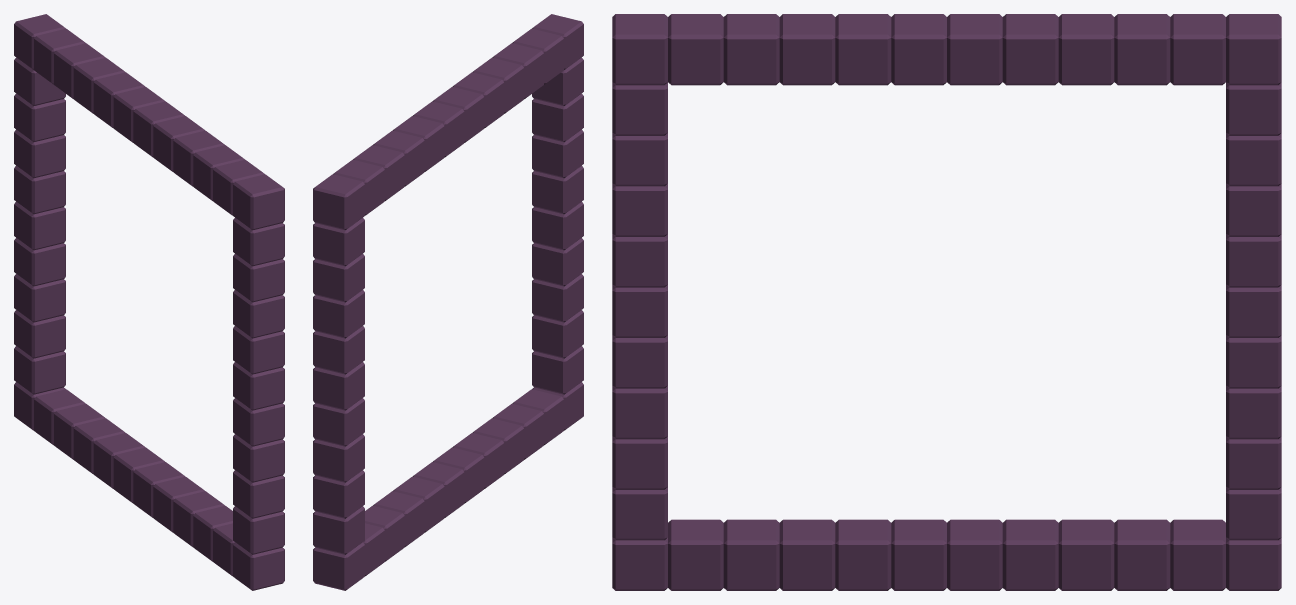
File: Frame01.fbx
The picture shows the model from 3 angles, left to right: view 1: azimuth 30°, elevation 25°; view 2: azimuth 150°, elevation 25°; view 3: azimuth 270°, elevation 25°; orthographic projection. The views are drawn at different scales.
Visible parts, largest first — view 1: Cube; view 2: Cube; view 3: Cube.
Boxes of the visible parts, x1=… form: Cube: x1=14, y1=14, x2=284, y2=590; Cube: x1=313, y1=14, x2=583, y2=590; Cube: x1=612, y1=14, x2=1281, y2=590.
Size of the model in its own units: 200 by 2200 by 2400.
